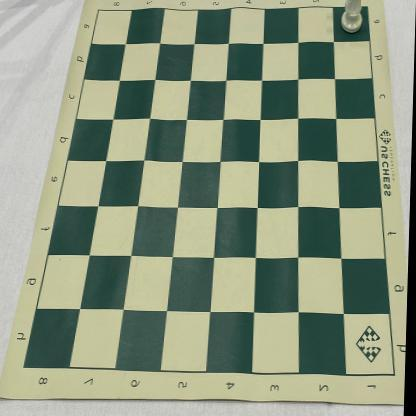white-knight: (340, 0, 364, 34)
